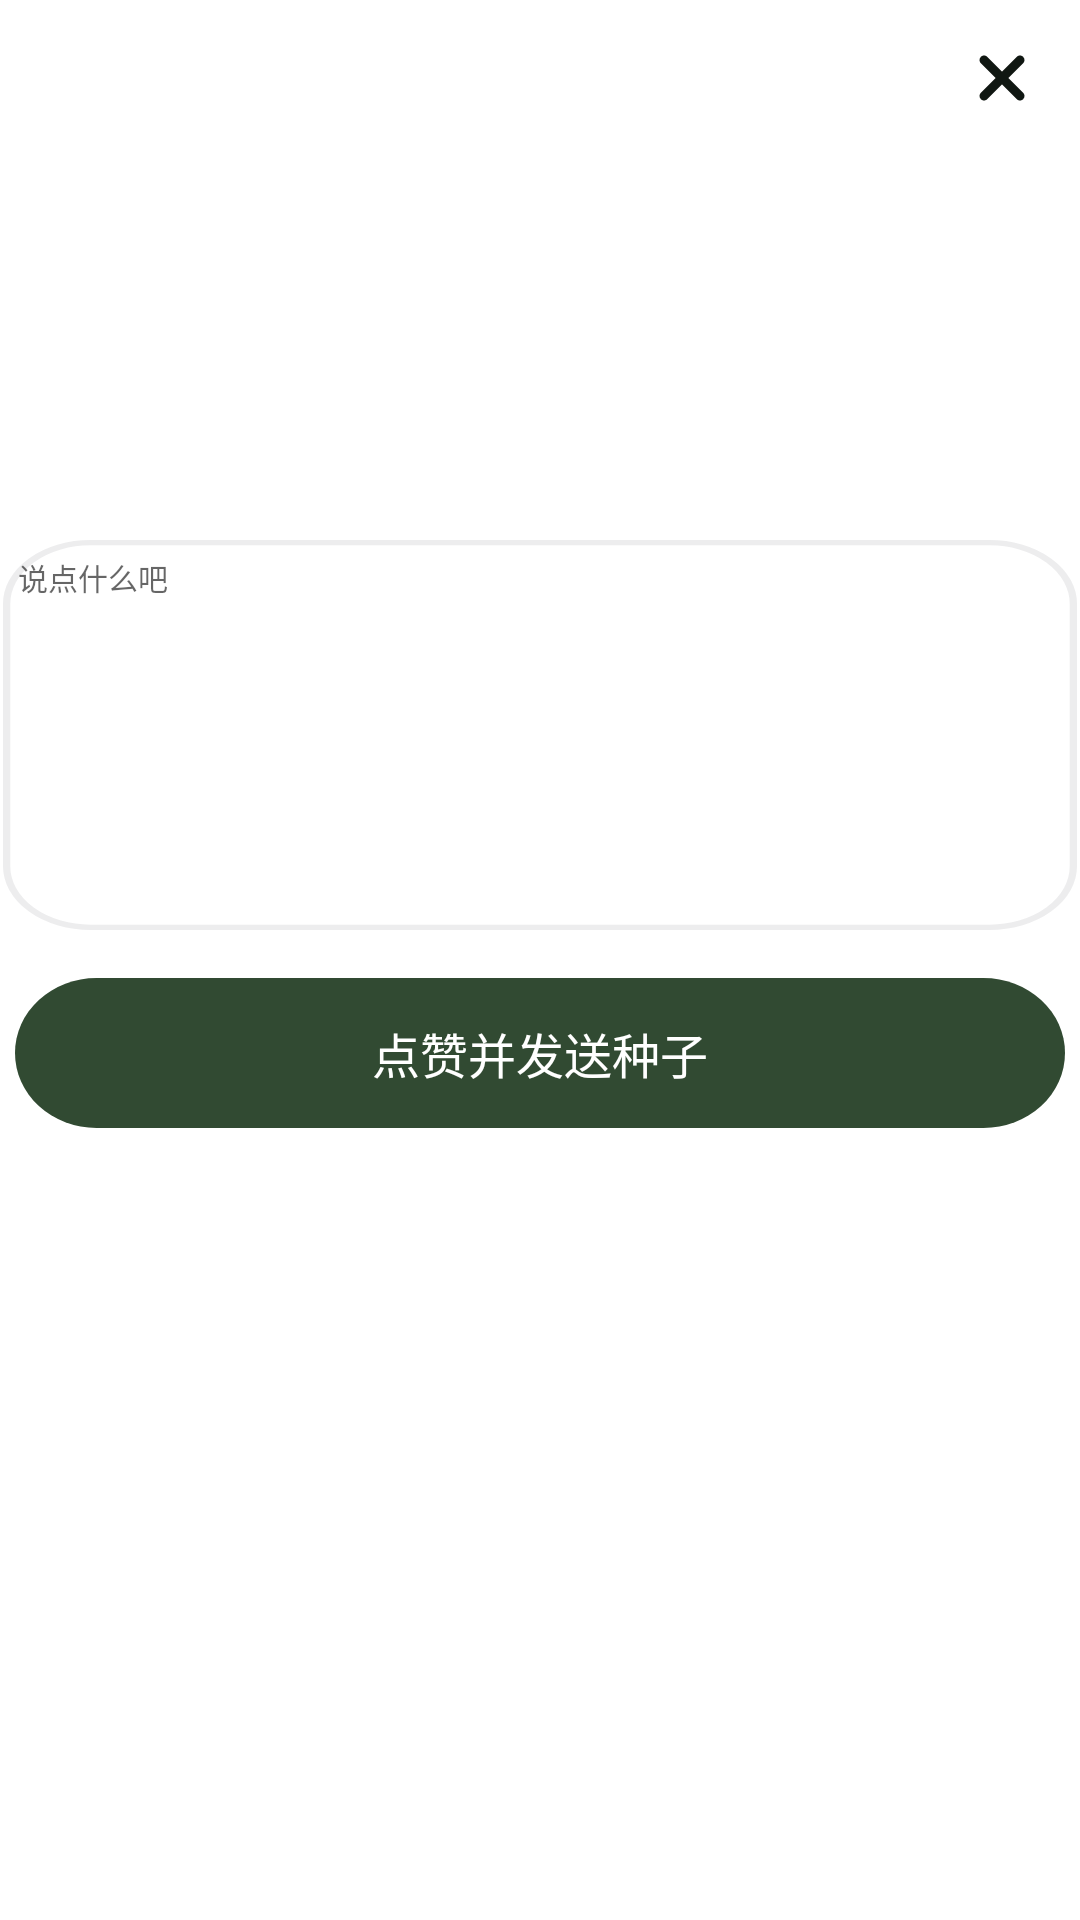

Named icons in this screenshot (1080x1920) and their bounding boxes, [x1,y1,x2,y2]:
Close dialog: [979,55,1025,101]
